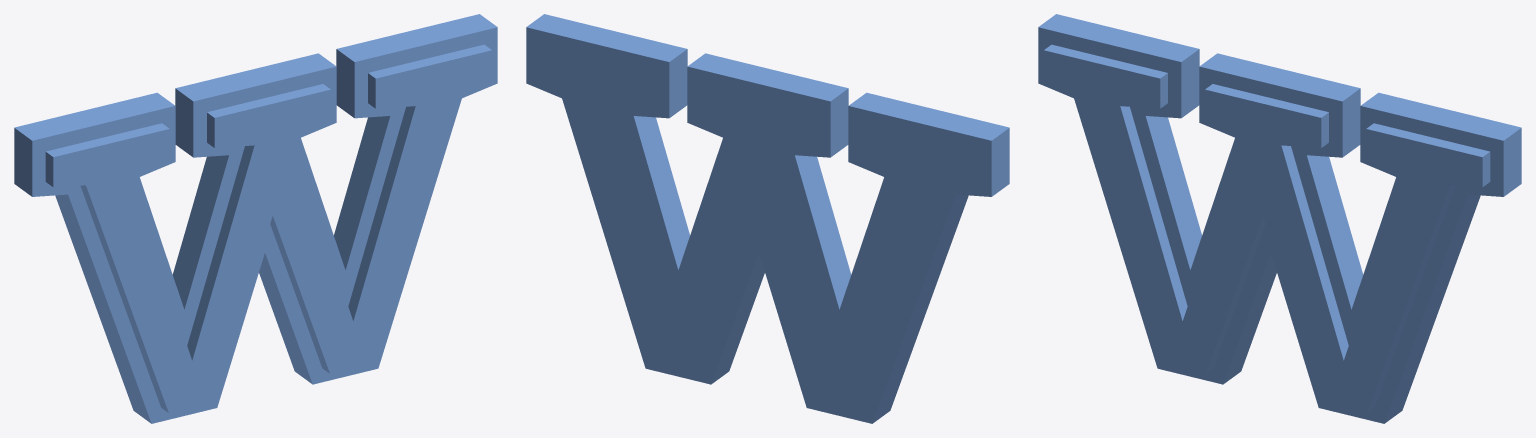
Rendered from uploads_files_2164794_W2.FBX.
The picture shows the model from 3 angles, left to right: view 1: azimuth 30°, elevation 25°; view 2: azimuth 150°, elevation 25°; view 3: azimuth 330°, elevation 25°; orthographic projection.
Parts seen in each view (by area): view 1: w; view 2: w; view 3: w.
Boxes of the visible parts, left/top/right/bottom form: w: left=14, top=14, right=497, bottom=423; w: left=526, top=14, right=1009, bottom=423; w: left=1038, top=14, right=1521, bottom=423.
Bounding box in the file's own units: 5.2 × 3.33 × 0.5.
